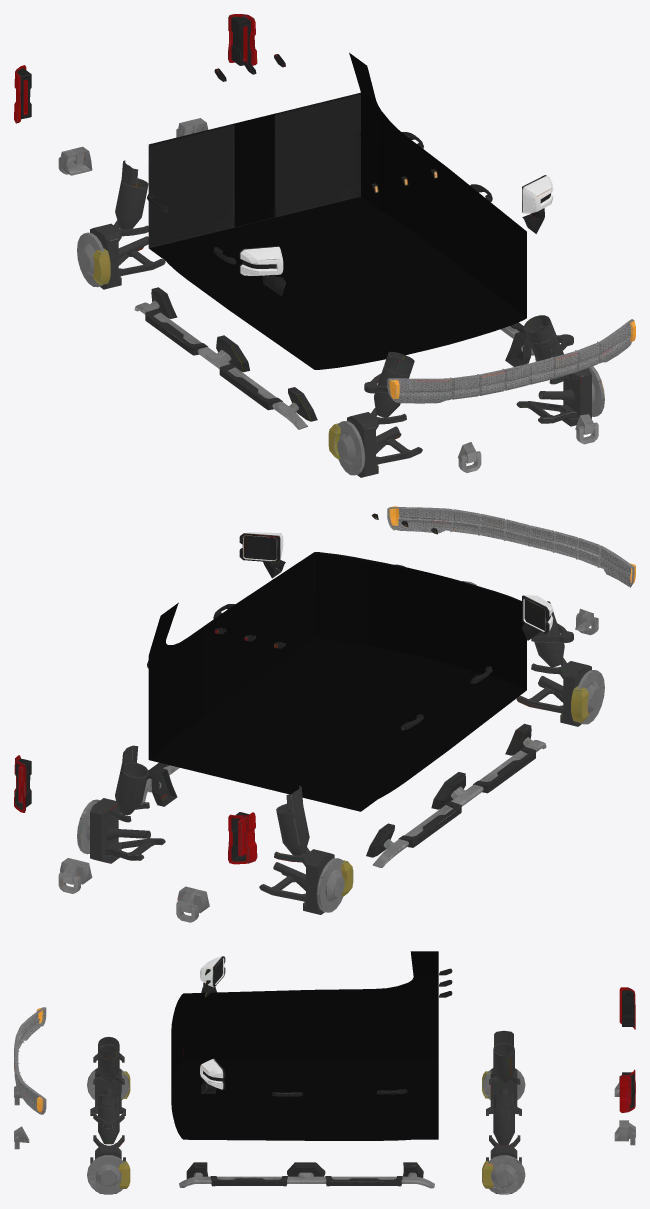
Rendered from hummer-ev-2_Object_6.glb.
3 renders of one model, top to bottom at view 1: azimuth 30°, elevation 25°; view 2: azimuth 150°, elevation 25°; view 3: azimuth 270°, elevation 25°, orthographic. The views are drawn at different scales.
Parts seen in each view (by area): view 1: Object_6; view 2: Object_6; view 3: Object_6.
Boxes of the visible parts, <box> form: Object_6: <box>14,14,635,477</box>; Object_6: <box>14,506,635,922</box>; Object_6: <box>14,951,635,1194</box>.
Size of the model in its own units: 2.39 by 1.64 by 5.42.
Materials: 1 (1 with a texture image).
